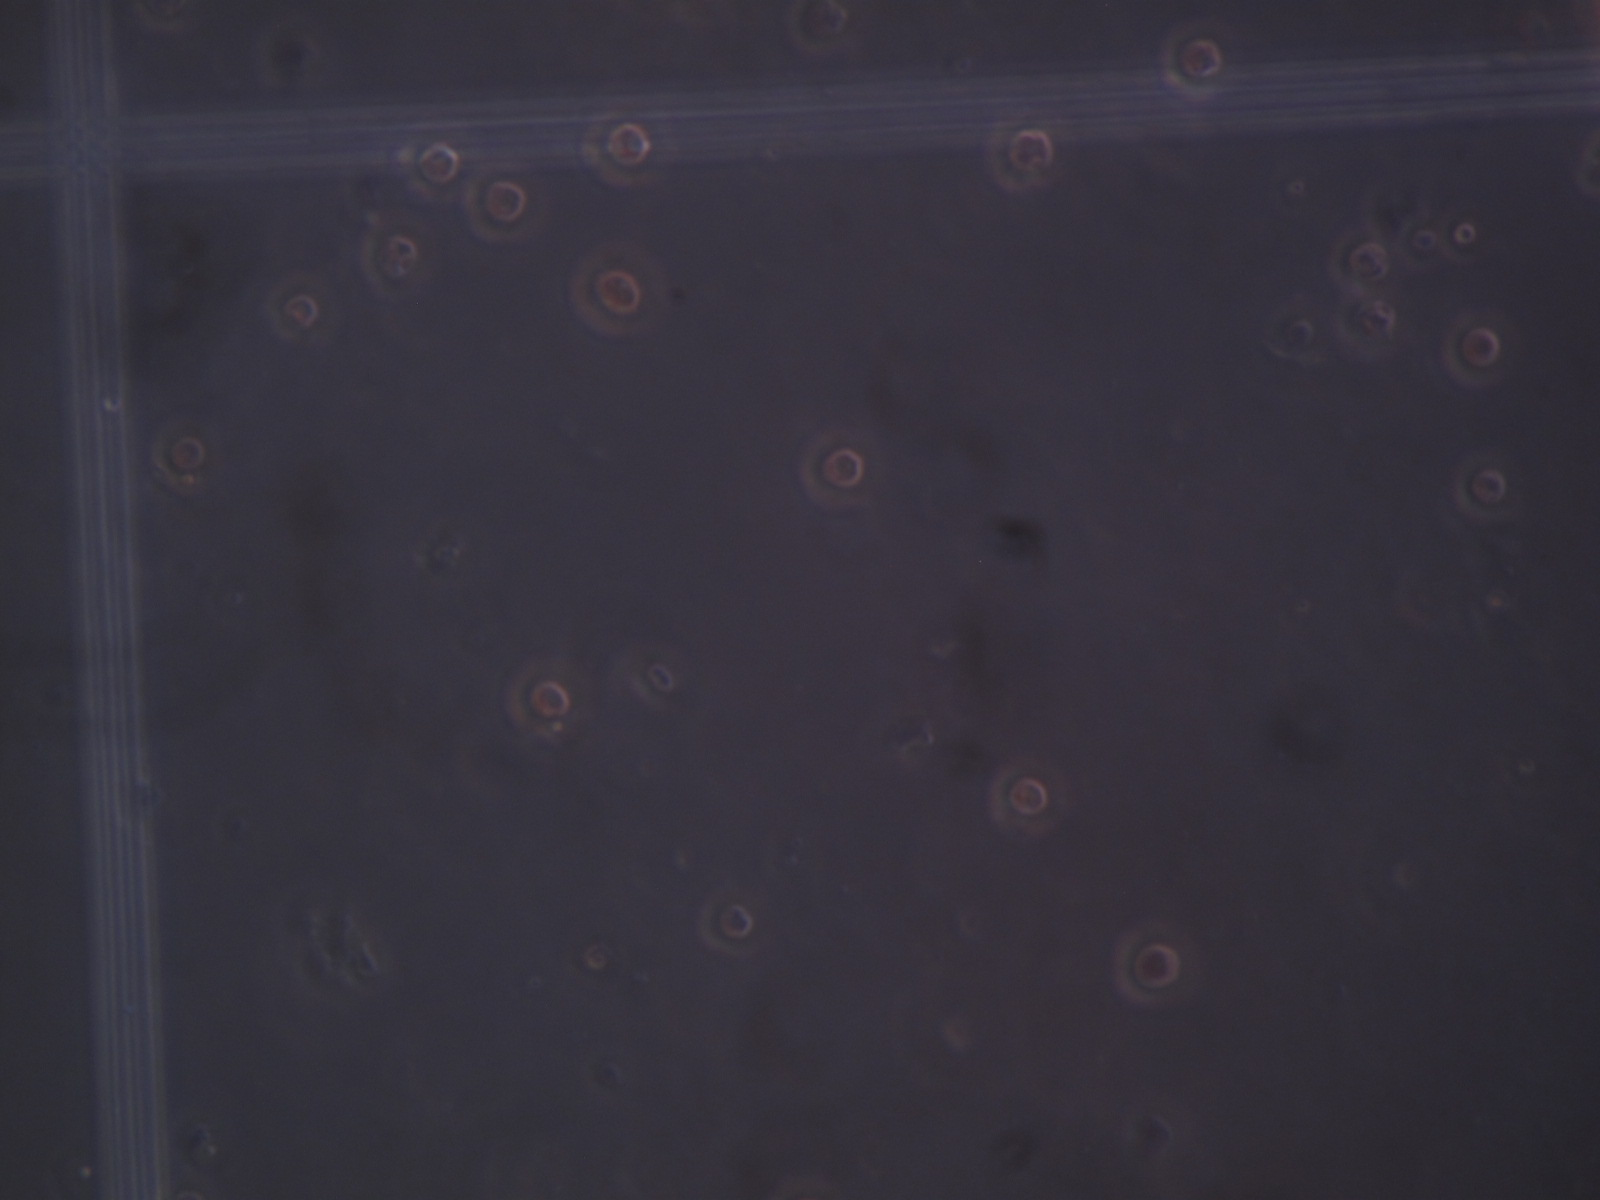hemo: (569, 245, 643, 335), (580, 111, 660, 192), (795, 429, 869, 512), (1115, 924, 1187, 1007), (990, 759, 1068, 834), (357, 205, 417, 297), (462, 170, 533, 243), (1441, 310, 1503, 391), (501, 666, 572, 736), (1159, 24, 1223, 98), (991, 113, 1054, 188), (397, 137, 465, 203), (1335, 292, 1401, 358), (150, 421, 207, 495), (1453, 450, 1511, 521), (699, 887, 758, 955), (263, 274, 319, 343), (1330, 229, 1390, 292), (1270, 301, 1324, 363), (786, 1, 849, 52), (1395, 214, 1440, 271), (1440, 211, 1484, 268)
